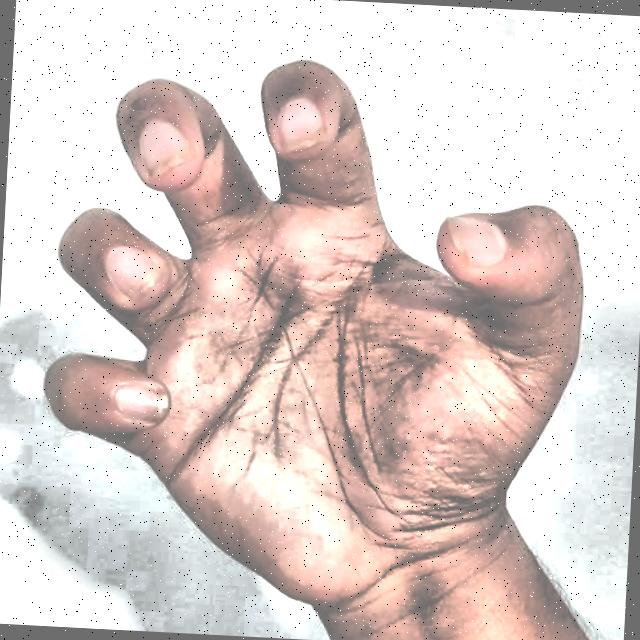Ja: (18, 22, 614, 640)
